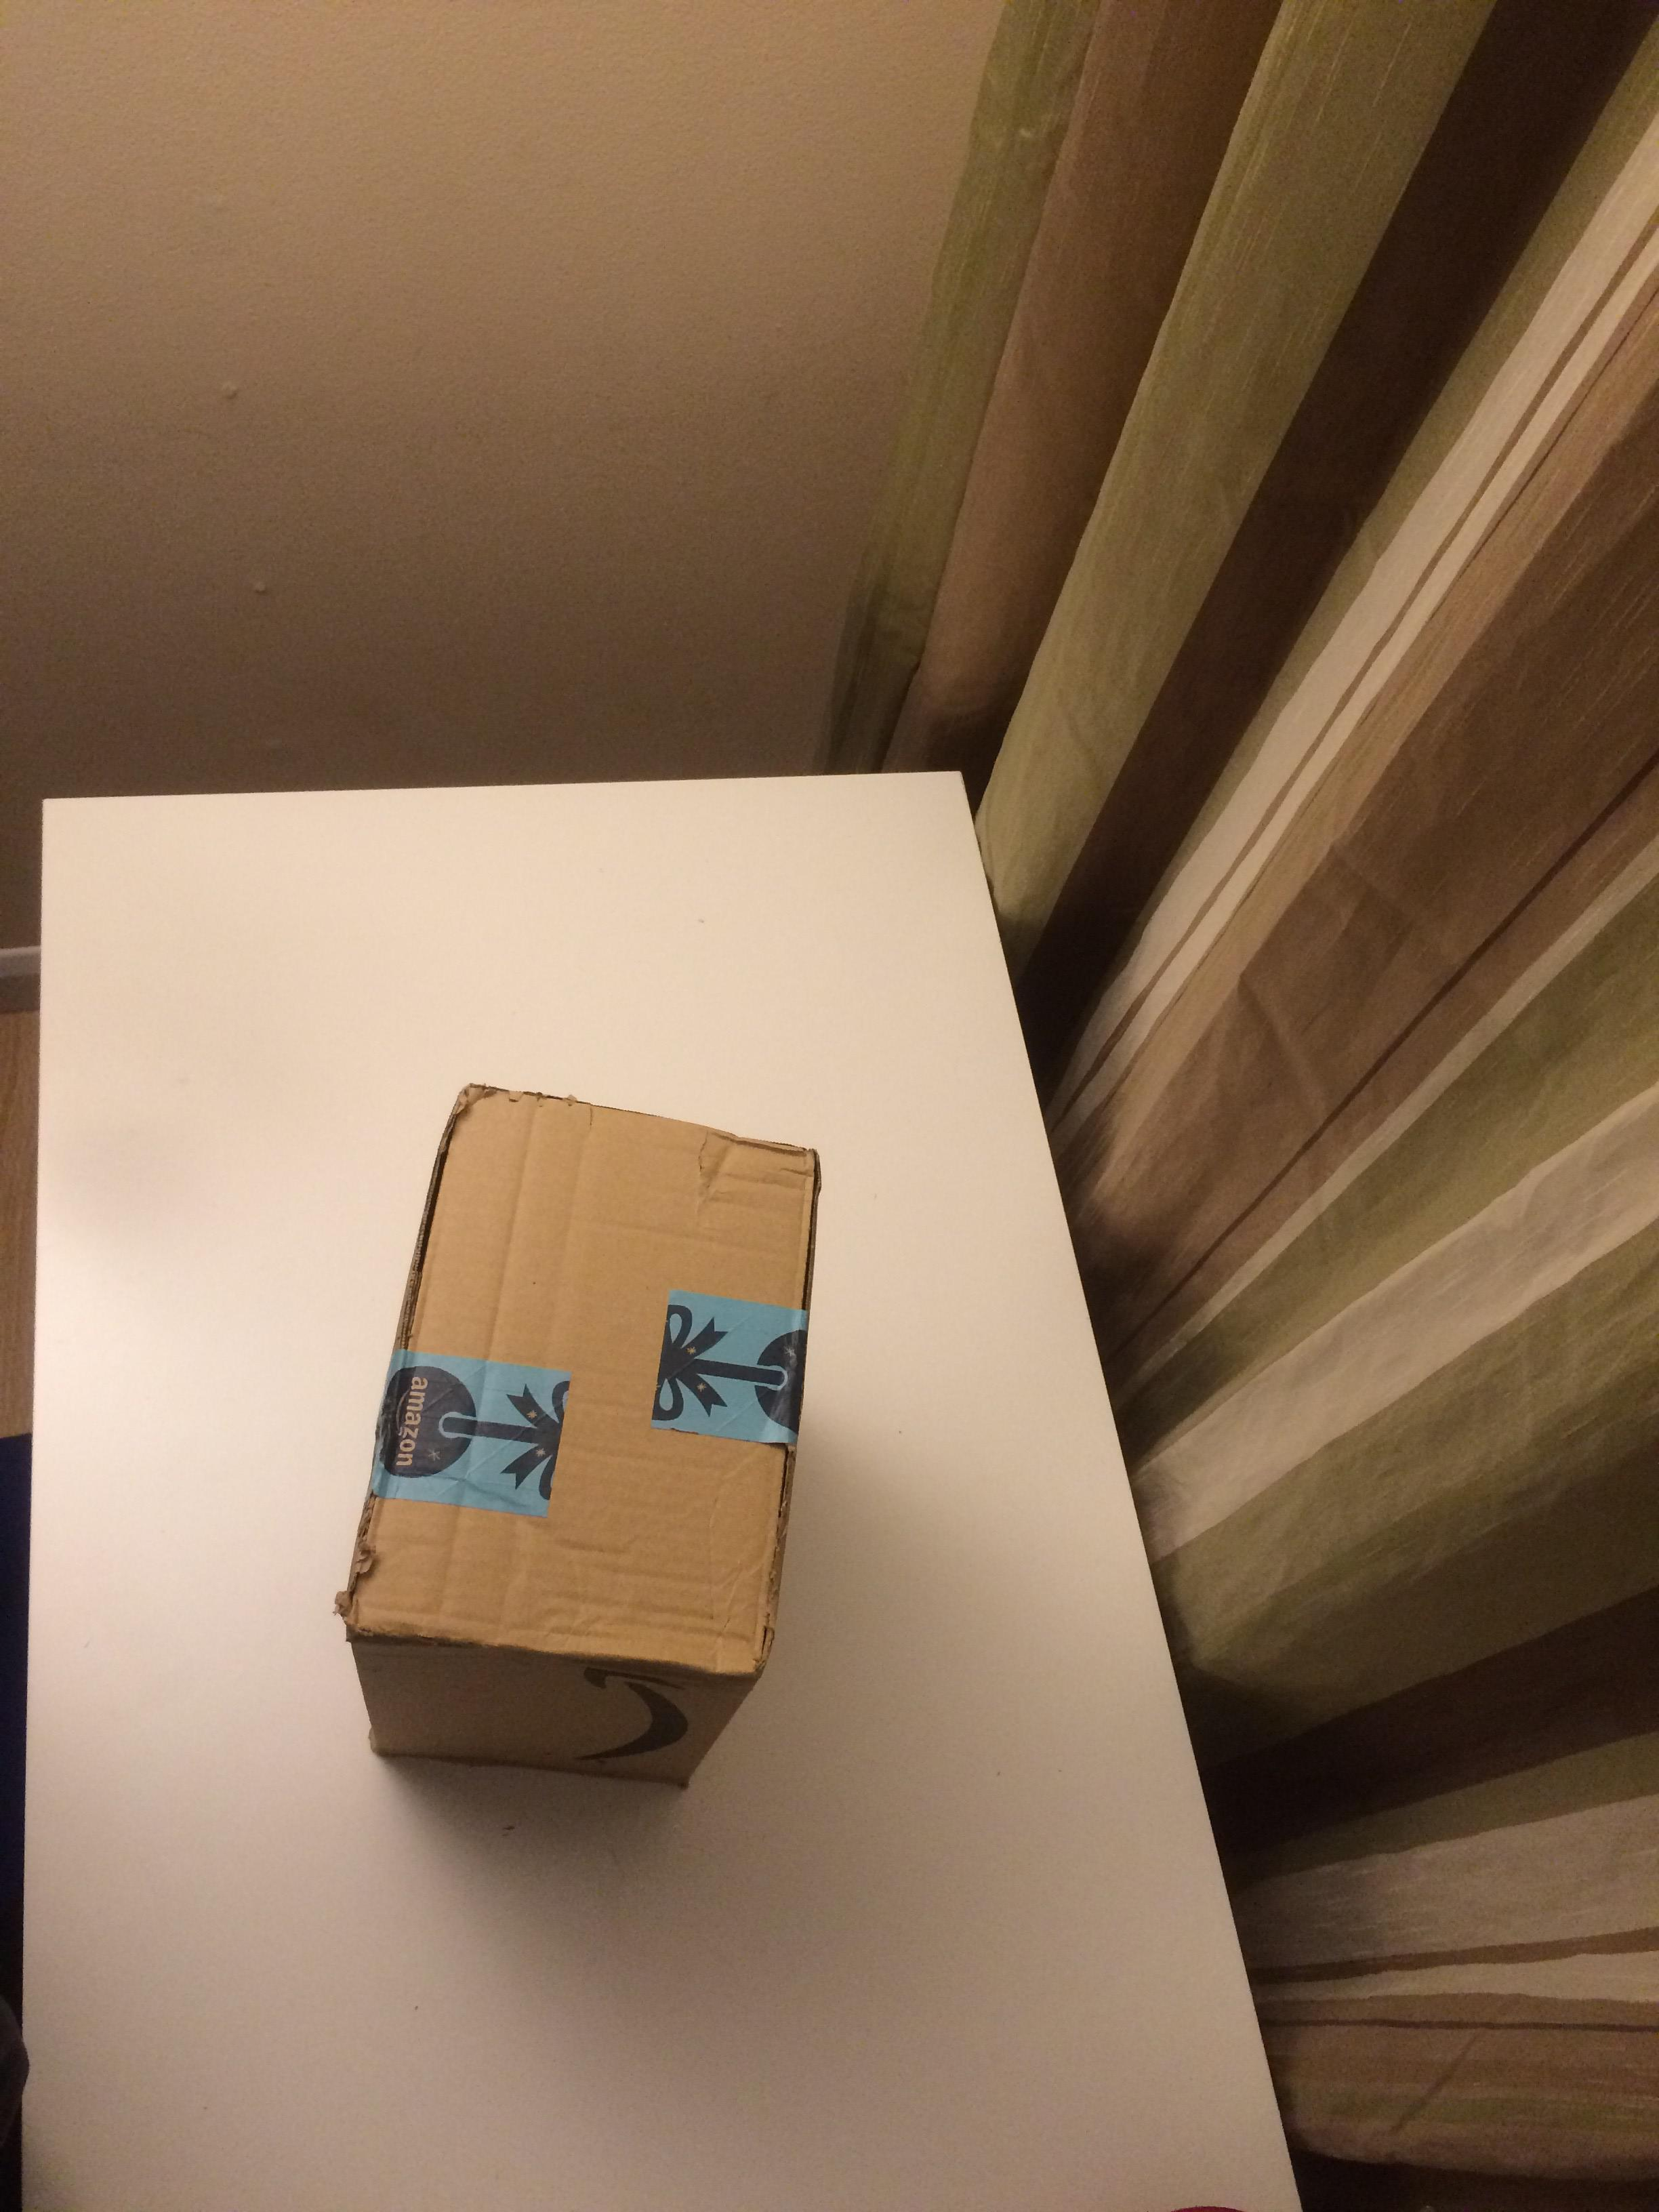Trash: (336, 1045, 824, 1799)
